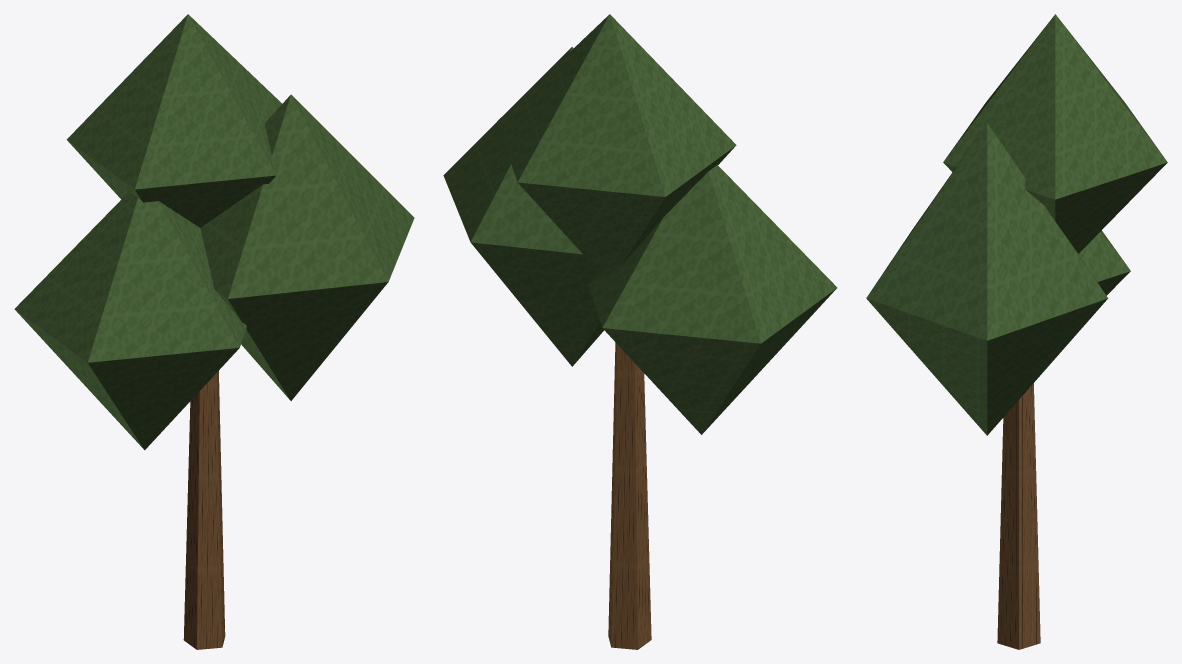
Rendered from tree-lod1.glb.
The picture shows the model from 3 angles, left to right: view 1: azimuth 30°, elevation 25°; view 2: azimuth 150°, elevation 25°; view 3: azimuth 270°, elevation 25°; orthographic projection. The views are drawn at different scales.
Size of the model in its own units: 0.4564 by 0.76 by 0.3318.
Materials: 1 (1 with a texture image).
